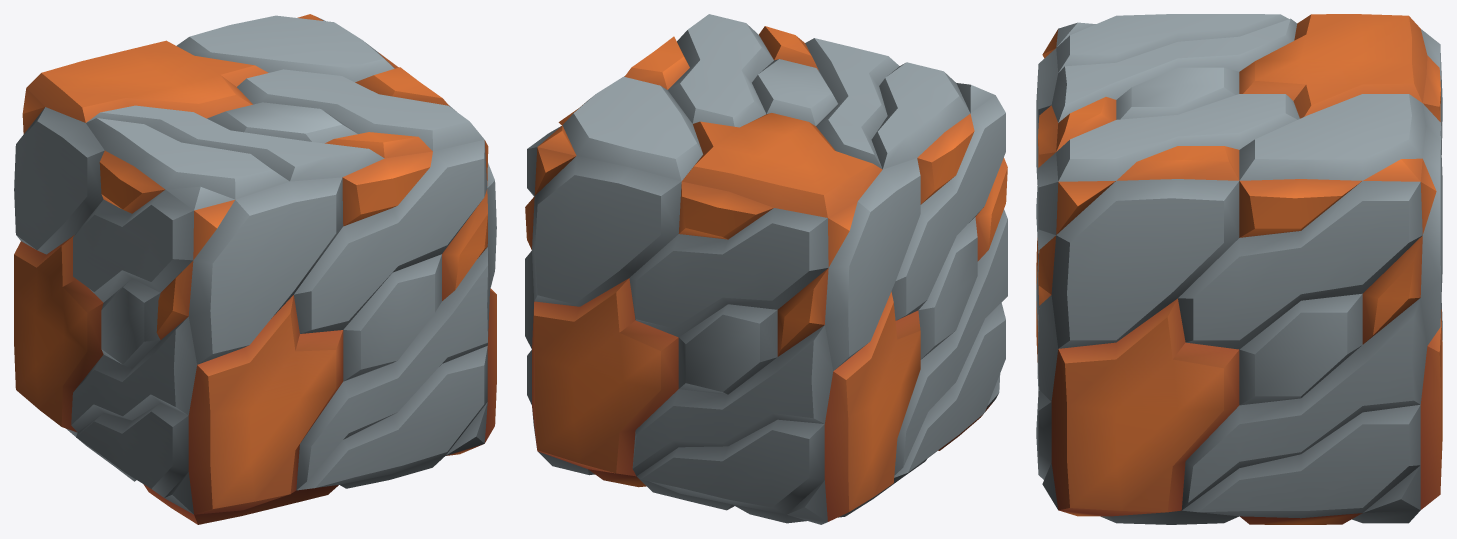
The model's file is stone_with_copper.glb.
The picture shows the model from 3 angles, left to right: view 1: azimuth 30°, elevation 25°; view 2: azimuth 150°, elevation 25°; view 3: azimuth 270°, elevation 25°; orthographic projection. The views are drawn at different scales.
Visible parts, largest first — view 1: stone_with_copper; view 2: stone_with_copper; view 3: stone_with_copper.
Boxes of the visible parts, x1,y1,x2,y2 form: stone_with_copper: (14, 14, 496, 524); stone_with_copper: (525, 14, 1007, 524); stone_with_copper: (1036, 14, 1442, 524).
Bounding box in the file's own units: 2.02 × 2.02 × 2.02.
1 material, 1 textured.
